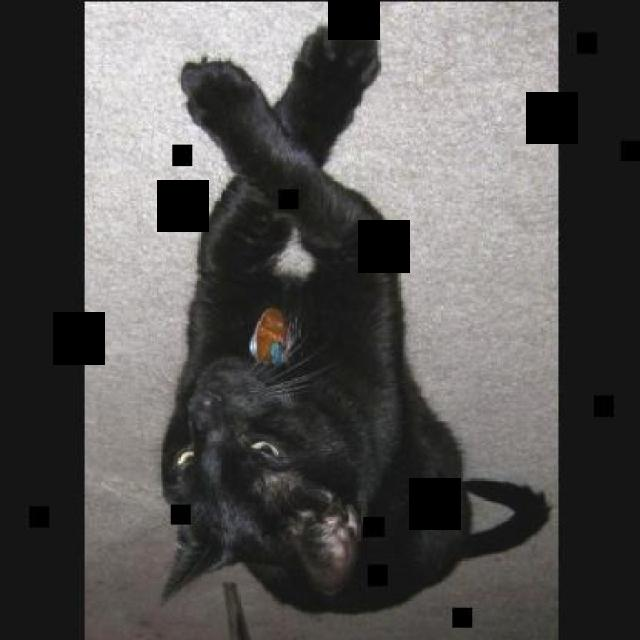unauthorized: (157, 17, 549, 612)
